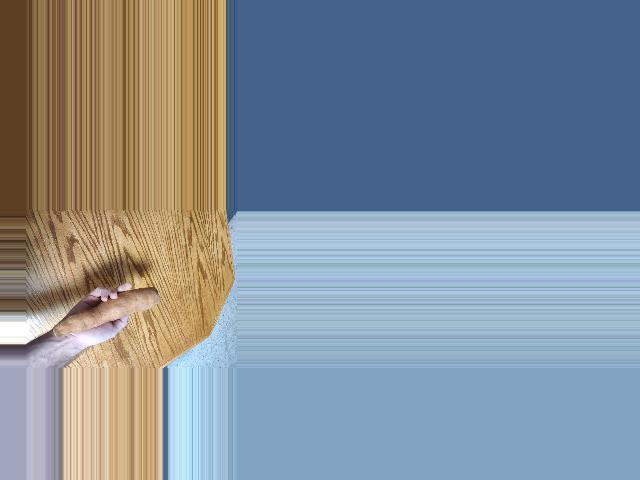sweet_potato: (51, 285, 161, 340)
